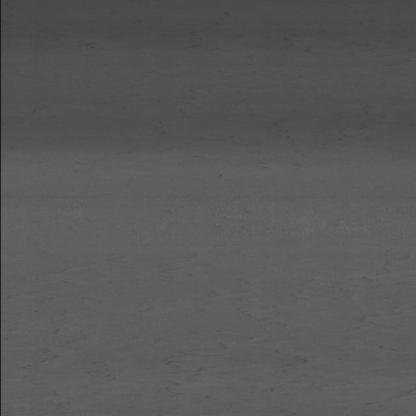silk_spot: (33, 299, 330, 389)
